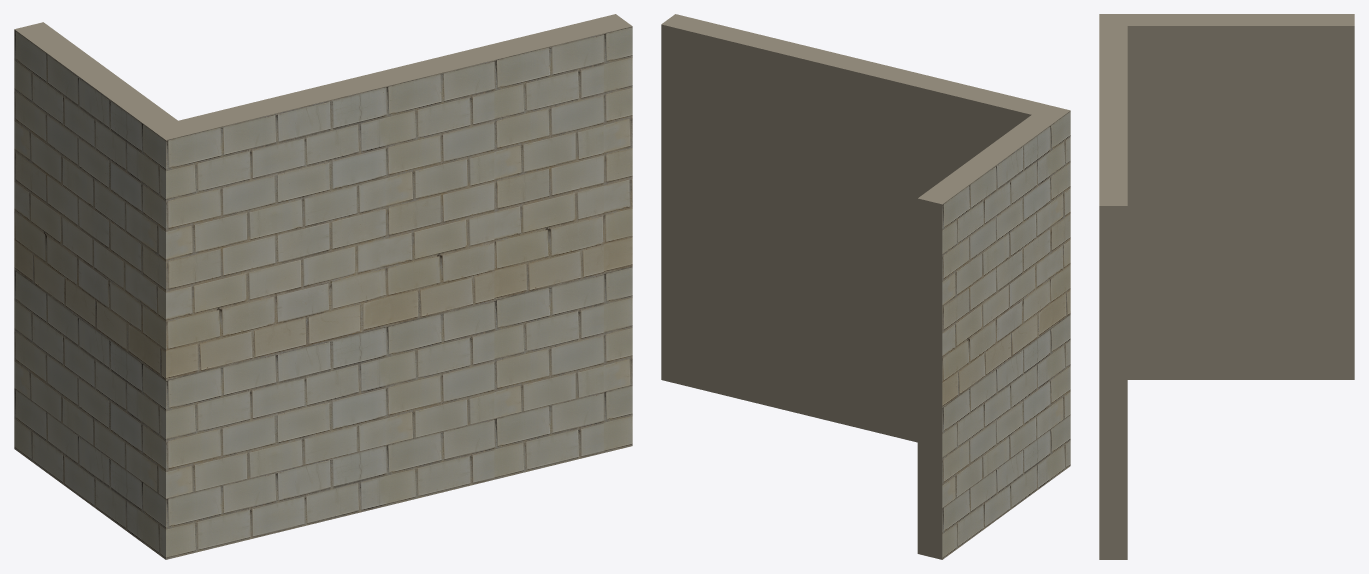
3 views of the same model, side by side, from view 1: azimuth 30°, elevation 25°; view 2: azimuth 150°, elevation 25°; view 3: azimuth 270°, elevation 25° (orthographic). The views are drawn at different scales.
Visible parts, largest first — view 1: wall; view 2: wall; view 3: wall.
Part boxes in pixels (left/top/right/bottom): wall: left=14, top=14, right=632, bottom=559; wall: left=661, top=14, right=1070, bottom=559; wall: left=1099, top=14, right=1354, bottom=559.
Bounding box in the file's own units: 32 × 27.5 × 18.
